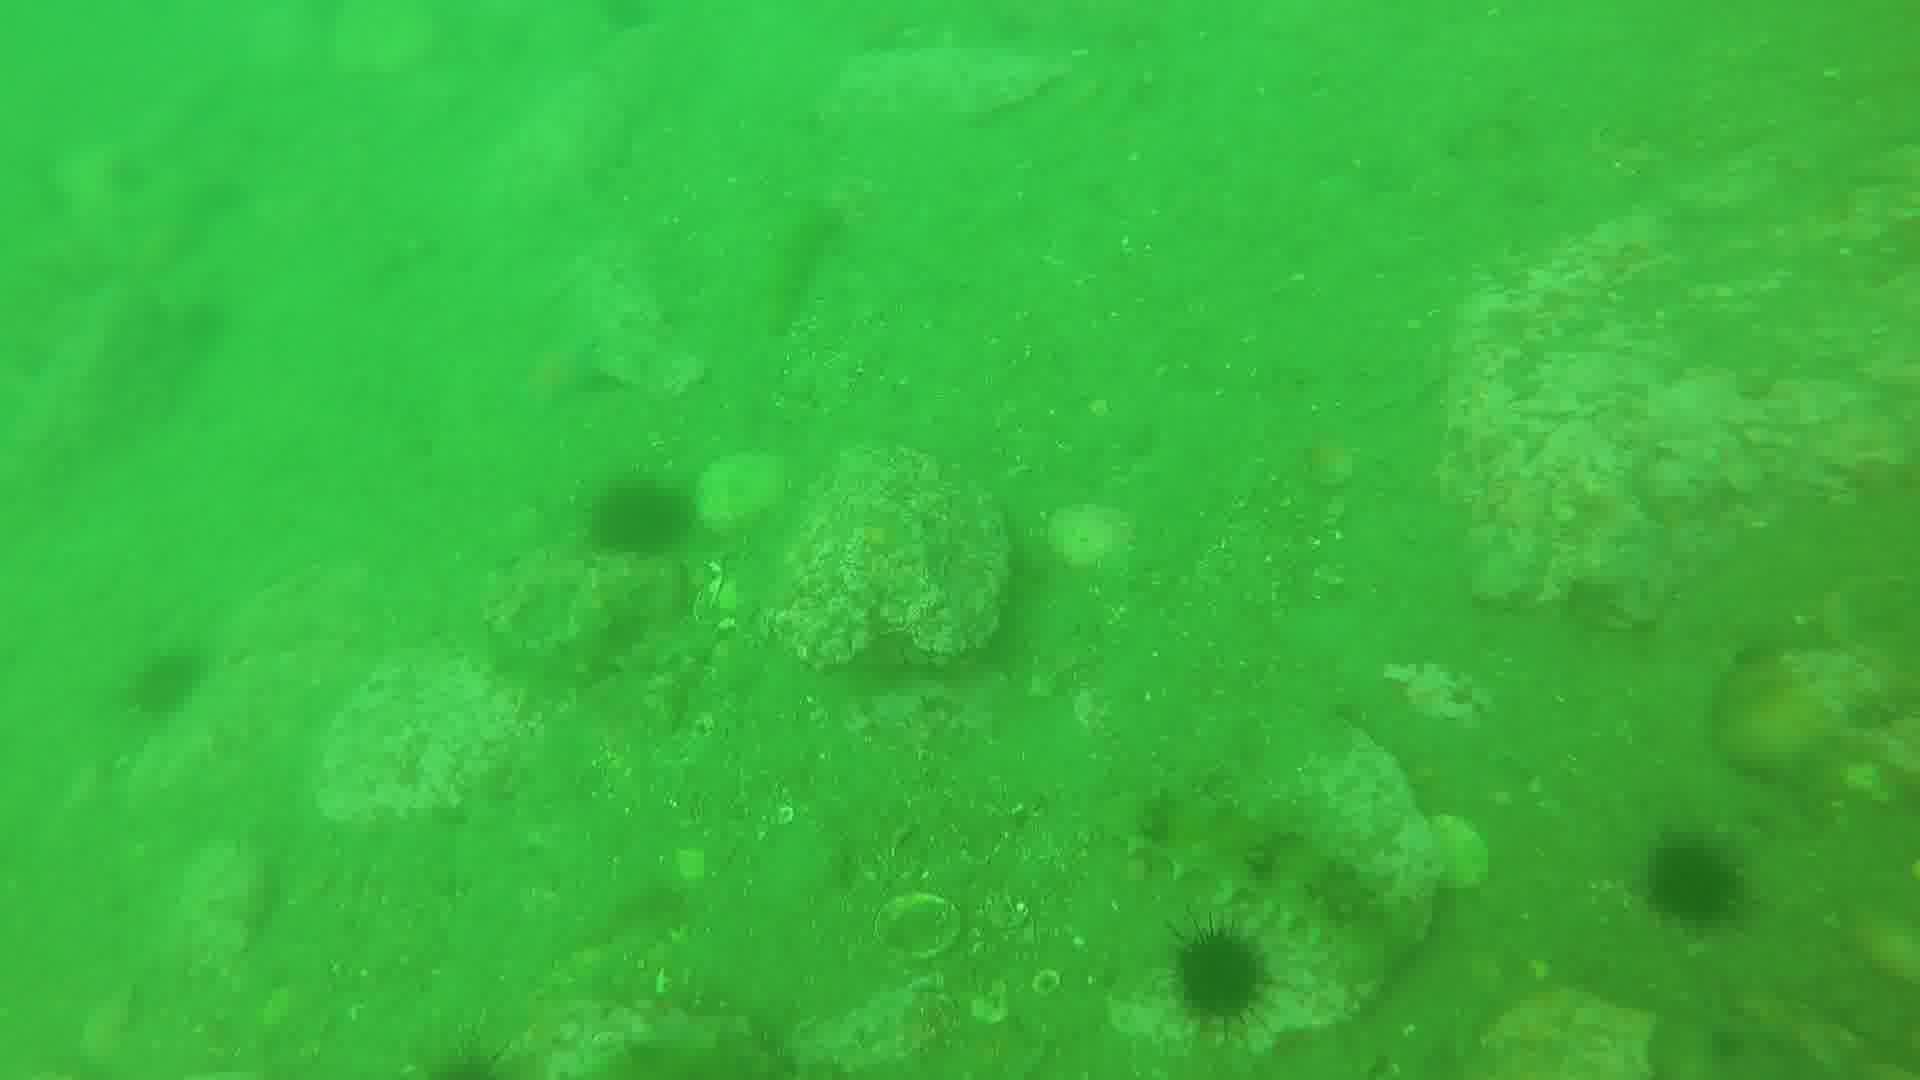echinus: (1164, 920, 1273, 1023), (1648, 828, 1742, 935), (121, 647, 218, 725), (592, 483, 694, 553)
holothurian: (1106, 796, 1379, 939)
